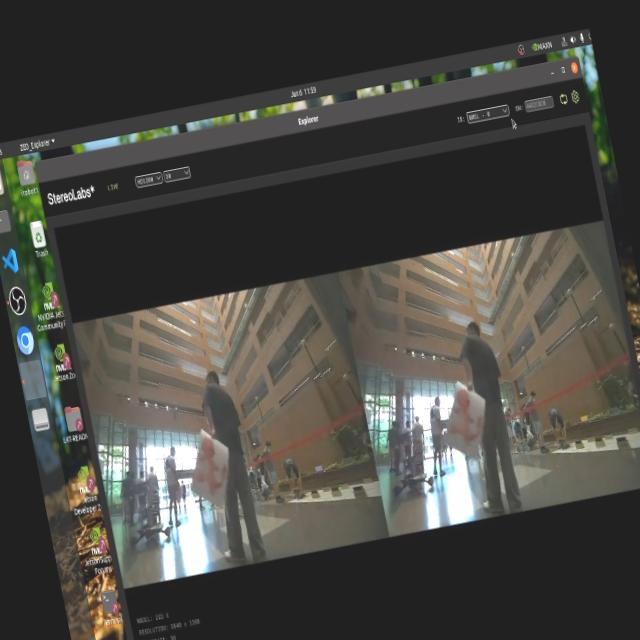red: (444, 366, 492, 463), (190, 430, 232, 499)
